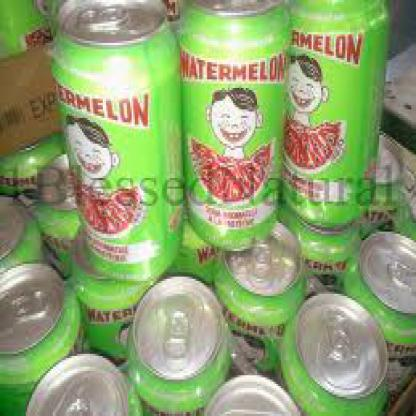METAL: (50, 0, 185, 277), (177, 0, 289, 247), (286, 0, 389, 232), (127, 270, 228, 414), (212, 221, 304, 371), (280, 287, 386, 414), (0, 264, 89, 415), (345, 227, 408, 388), (20, 352, 142, 414), (35, 152, 79, 274), (195, 371, 300, 414), (0, 195, 42, 275), (0, 0, 52, 50)
